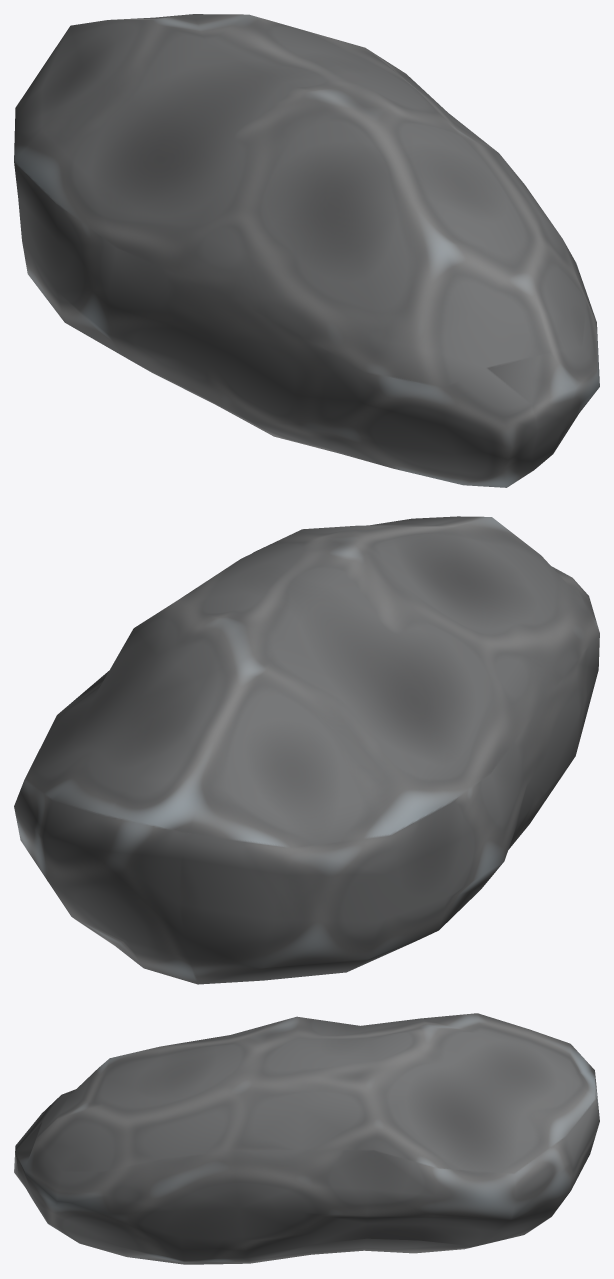
File: rock_3.fbx
The picture shows the model from 3 angles, top to bottom: view 1: azimuth 30°, elevation 25°; view 2: azimuth 150°, elevation 25°; view 3: azimuth 270°, elevation 25°; orthographic projection. The views are drawn at different scales.
Parts seen in each view (by area): view 1: rock3_low; view 2: rock3_low; view 3: rock3_low.
Boxes of the visible parts, x1,y1,x2,y2 form: rock3_low: (14, 14, 599, 487); rock3_low: (14, 516, 599, 984); rock3_low: (14, 1013, 599, 1264).
Bounding box in the file's own units: 28.13 × 21.5 × 54.39.
1 material, 1 textured.
